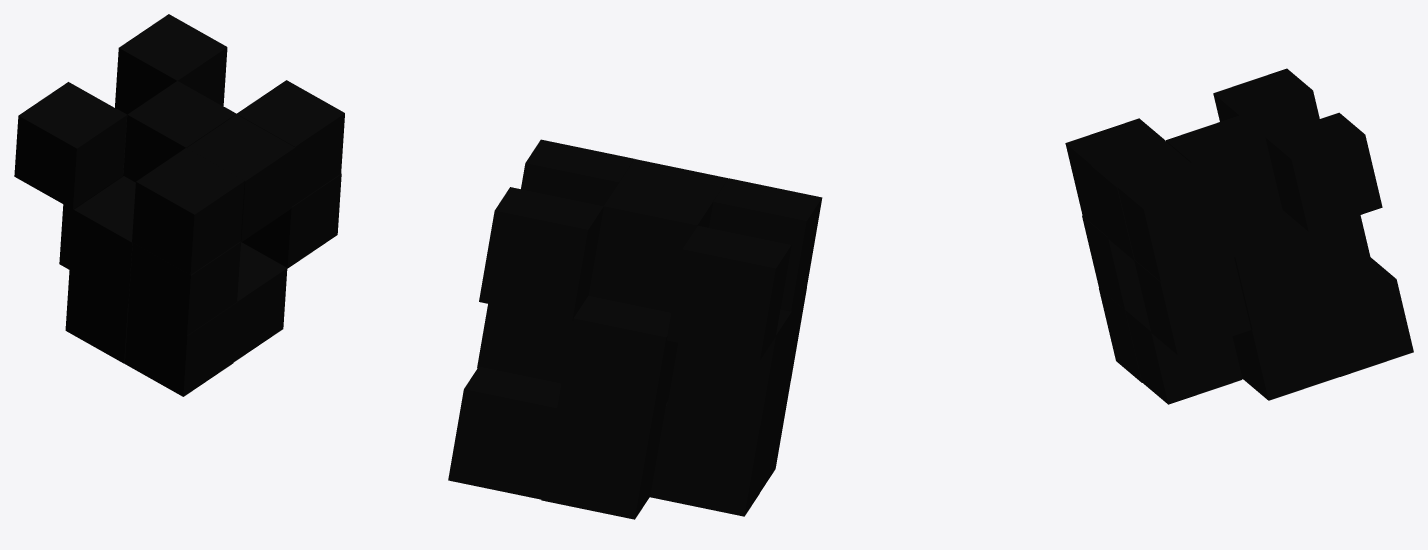
3 views of the same model, side by side, from view 1: azimuth 30°, elevation 25°; view 2: azimuth 150°, elevation 25°; view 3: azimuth 270°, elevation 25° (orthographic). The views are drawn at different scales.
Visible parts, largest first — view 1: node_id79, node_id67, node_id75, node_id58, node_id50, node_id41, node_id71, node_id83, node_id45, node_id54, node_id62, node_id33 (+1 smaller); view 2: node_id79, node_id75, node_id16, node_id12, node_id83, node_id33, node_id8, node_id45, node_id67, node_id24, node_id71, node_id50 (+2 smaller); view 3: node_id75, node_id71, node_id24, node_id12, node_id54, node_id83, node_id28, node_id62, node_id79, node_id50, node_id67, node_id58 (+2 smaller).
Boxes of the visible parts, left/top/right/bottom form: node_id79: left=14, top=82, right=126, bottom=209; node_id67: left=132, top=148, right=244, bottom=274; node_id75: left=115, top=14, right=227, bottom=114; node_id58: left=128, top=241, right=240, bottom=336; node_id50: left=187, top=114, right=295, bottom=242; node_id41: left=124, top=302, right=237, bottom=396; node_id71: left=236, top=80, right=344, bottom=206; node_id83: left=123, top=81, right=235, bottom=182; node_id45: left=70, top=176, right=135, bottom=303; node_id54: left=242, top=173, right=341, bottom=268; node_id62: left=233, top=242, right=287, bottom=361; node_id33: left=65, top=269, right=128, bottom=363; node_id79: left=666, top=225, right=791, bottom=359; node_id75: left=479, top=187, right=603, bottom=320; node_id16: left=557, top=295, right=676, bottom=428; node_id12: left=448, top=366, right=561, bottom=499; node_id83: left=588, top=182, right=712, bottom=312; node_id33: left=651, top=404, right=775, bottom=516; node_id8: left=541, top=406, right=665, bottom=519; node_id45: left=667, top=309, right=791, bottom=425; node_id67: left=708, top=178, right=822, bottom=311; node_id24: left=477, top=304, right=572, bottom=383; node_id71: left=521, top=139, right=634, bottom=205; node_id50: left=619, top=159, right=728, bottom=226; node_id75: left=1265, top=112, right=1382, bottom=232; node_id71: left=1117, top=162, right=1234, bottom=281; node_id24: left=1228, top=210, right=1326, bottom=329; node_id12: left=1319, top=257, right=1413, bottom=376; node_id54: left=1134, top=257, right=1251, bottom=354; node_id83: left=1165, top=115, right=1282, bottom=227; node_id28: left=1232, top=305, right=1341, bottom=400; node_id62: left=1125, top=303, right=1241, bottom=404; node_id79: left=1213, top=68, right=1319, bottom=137; node_id50: left=1091, top=141, right=1190, bottom=260; node_id67: left=1065, top=118, right=1165, bottom=236; node_id58: left=1082, top=215, right=1144, bottom=309.
Size of the model in its own units: 0.9509 by 1.13 by 1.14.
Materials: 20 (20 with a texture image).
